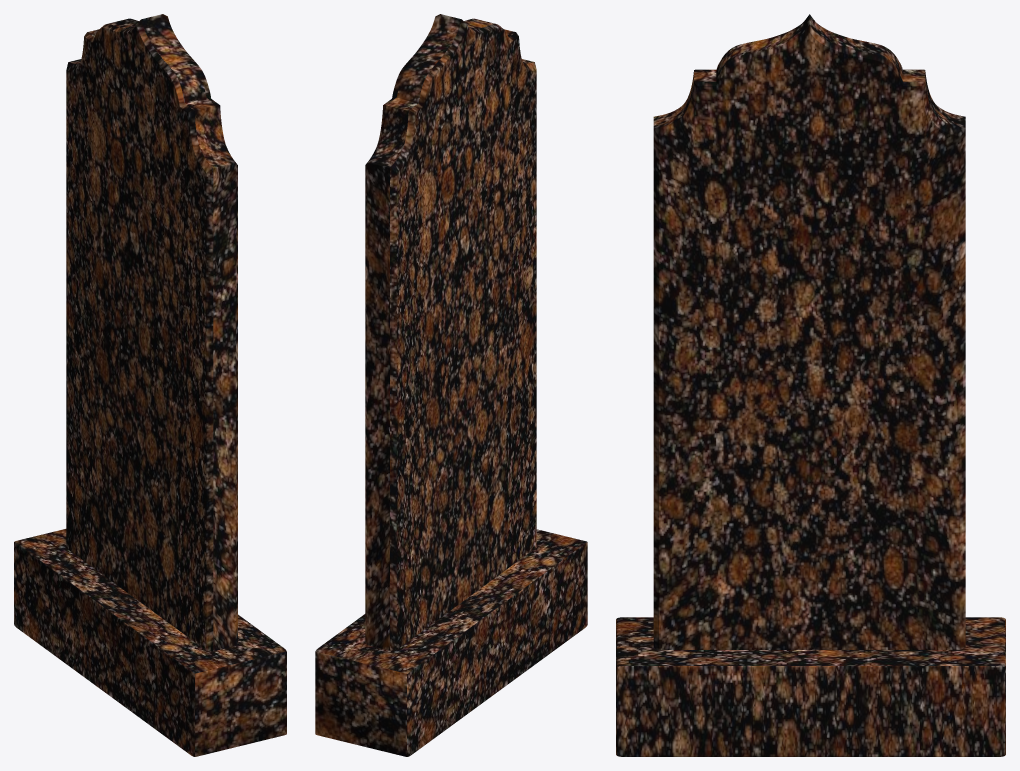
The model's file is Памятник вола Дымовски [granite_u_u] (90).glb.
3 renders of one model, left to right at view 1: azimuth 30°, elevation 25°; view 2: azimuth 150°, elevation 25°; view 3: azimuth 270°, elevation 25°, orthographic. The views are drawn at different scales.
Visible parts, largest first — view 1: Cube.058; view 2: Cube.058; view 3: Cube.058.
Boxes of the visible parts, x1,y1,x2,y2 form: Cube.058: (14, 14, 286, 756); Cube.058: (315, 14, 587, 756); Cube.058: (616, 14, 1005, 756).
Bounding box in the file's own units: 0.15 × 1.01 × 0.5.
Materials: 1 (1 with a texture image).
